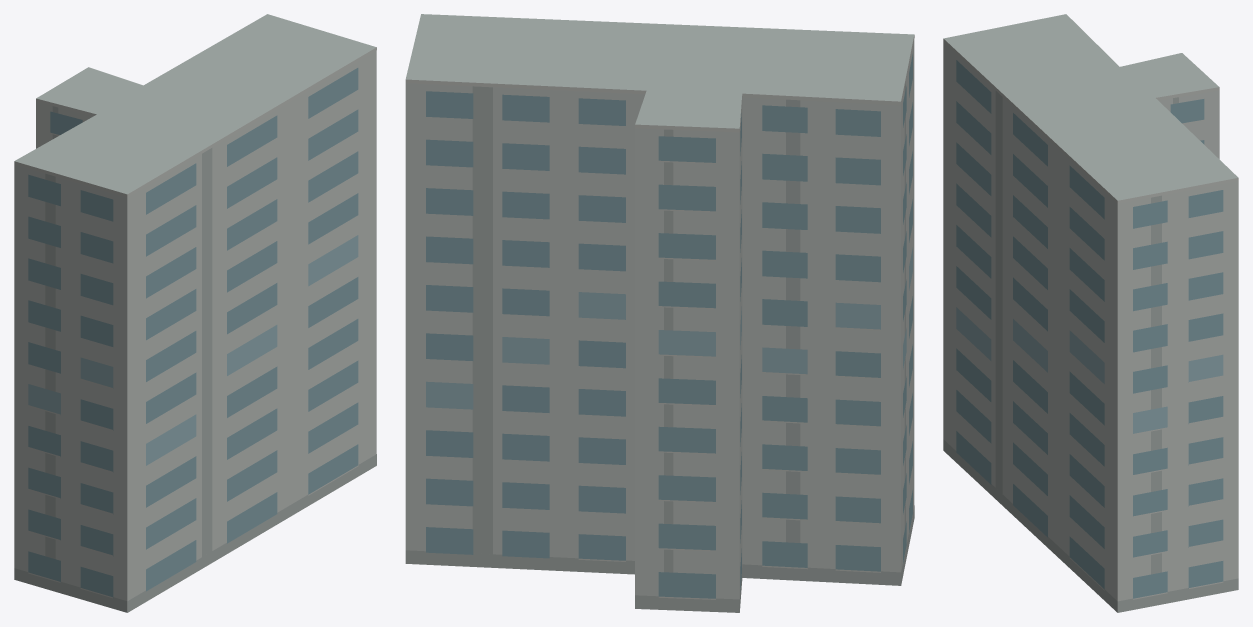
The model's file is survey-upis-32795642.glb.
3 renders of one model, left to right at view 1: azimuth 30°, elevation 25°; view 2: azimuth 150°, elevation 25°; view 3: azimuth 270°, elevation 25°, orthographic. The views are drawn at different scales.
Visible parts, largest first — view 1: survey-upis-32795642.tmp; view 2: survey-upis-32795642.tmp; view 3: survey-upis-32795642.tmp.
Part boxes in pixels (box(x1,y1,x2,y2)): survey-upis-32795642.tmp: box(14, 14, 376, 612); survey-upis-32795642.tmp: box(405, 14, 914, 612); survey-upis-32795642.tmp: box(943, 14, 1238, 612).
Bounding box in the file's own units: 30.38 × 31.25 × 20.29.
